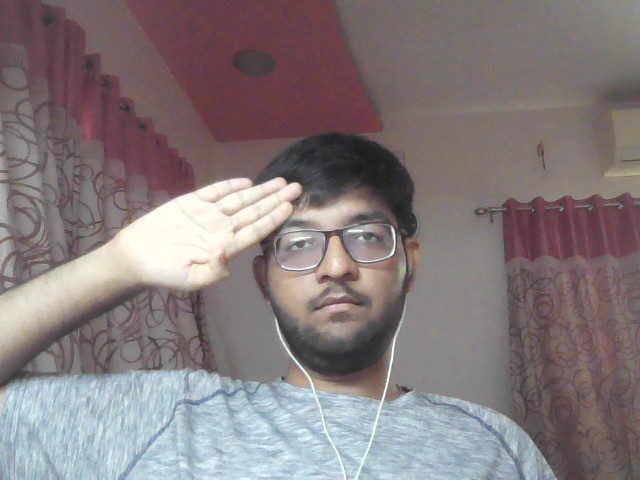નમસ્તે: (80, 165, 307, 291)
